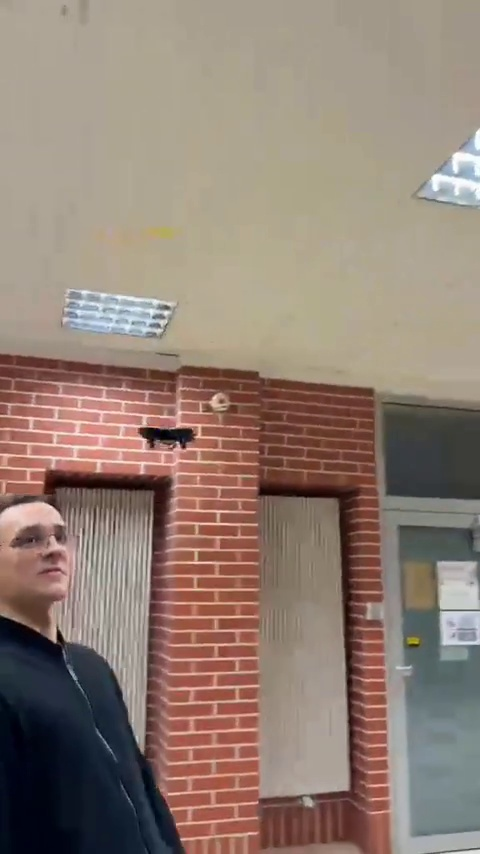drone: (137, 426, 198, 451)
no vest: (0, 494, 189, 854)
